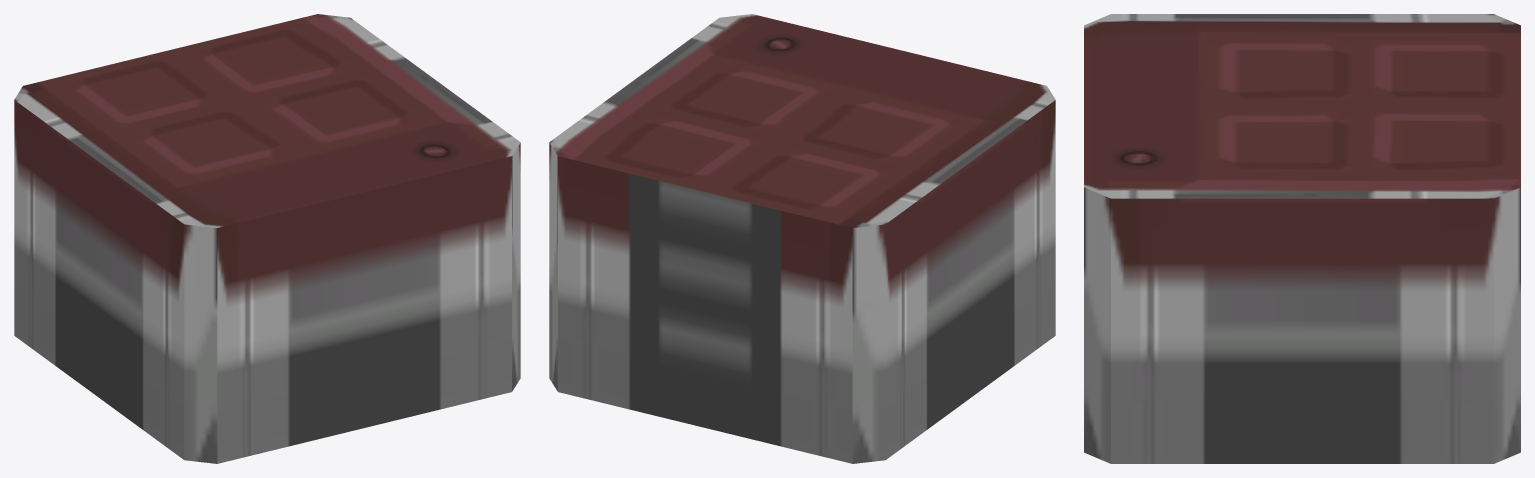
File: Building_ChemfuelTank.glb
3 renders of one model, left to right at view 1: azimuth 30°, elevation 25°; view 2: azimuth 150°, elevation 25°; view 3: azimuth 270°, elevation 25°, orthographic. The views are drawn at different scales.
Visible parts, largest first — view 1: ChemfuelTank; view 2: ChemfuelTank; view 3: ChemfuelTank.
Boxes of the visible parts, x1=… form: ChemfuelTank: x1=14, y1=14, x2=520, y2=463; ChemfuelTank: x1=549, y1=14, x2=1055, y2=463; ChemfuelTank: x1=1084, y1=14, x2=1520, y2=463.
Size of the model in its own units: 1.94 by 1.3 by 1.94.
Materials: 1 (1 with a texture image).
